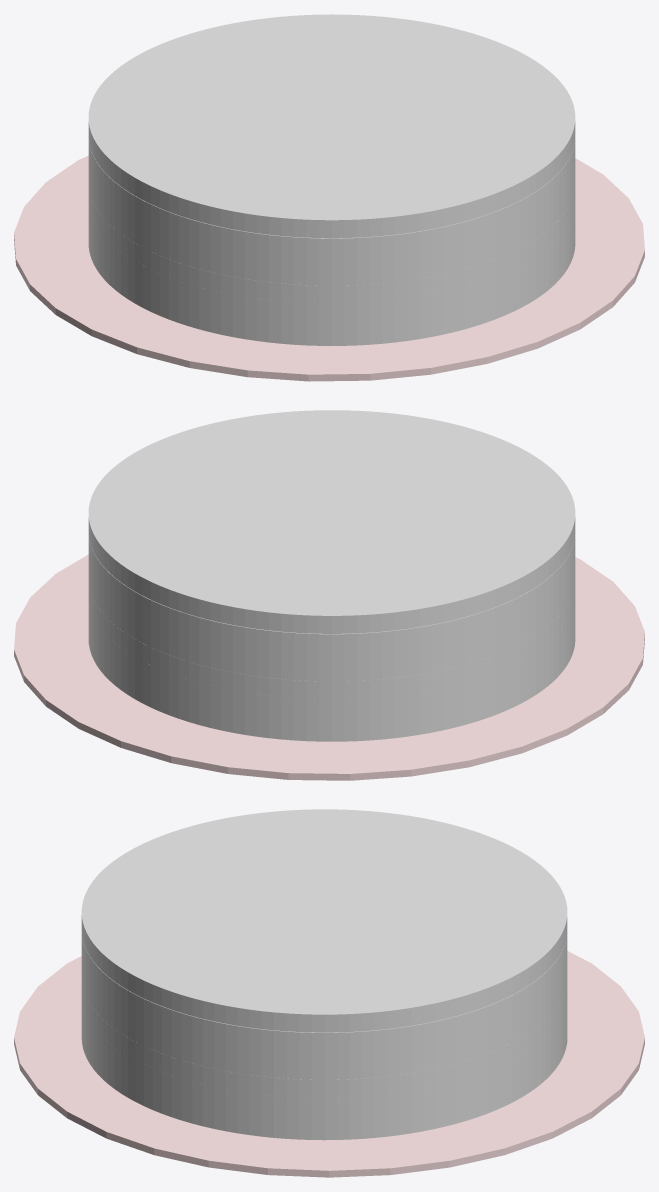
Rendered from CakeA_smooth.glb.
3 renders of one model, top to bottom at view 1: azimuth 30°, elevation 25°; view 2: azimuth 150°, elevation 25°; view 3: azimuth 270°, elevation 25°, orthographic.
Parts seen in each view (by area): view 1: top, plate, bot, negbot, negtop; view 2: top, plate, bot, negbot, negtop; view 3: top, plate, bot, negbot, negtop.
Boxes of the visible parts, left/top/right/bottom form: top: left=88, top=14, right=575, bottom=238; plate: left=14, top=155, right=644, bottom=381; bot: left=88, top=139, right=575, bottom=285; negbot: left=88, top=205, right=575, bottom=345; negtop: left=88, top=187, right=575, bottom=303; top: left=88, top=410, right=575, bottom=633; plate: left=14, top=554, right=644, bottom=780; bot: left=88, top=535, right=575, bottom=681; negbot: left=88, top=600, right=575, bottom=741; negtop: left=88, top=582, right=575, bottom=699; top: left=81, top=809, right=567, bottom=1032; plate: left=14, top=951, right=644, bottom=1177; bot: left=81, top=933, right=567, bottom=1079; negbot: left=81, top=998, right=567, bottom=1140; negtop: left=81, top=980, right=567, bottom=1097.
Bounding box in the file's own units: 1.97 × 0.4569 × 1.97.
